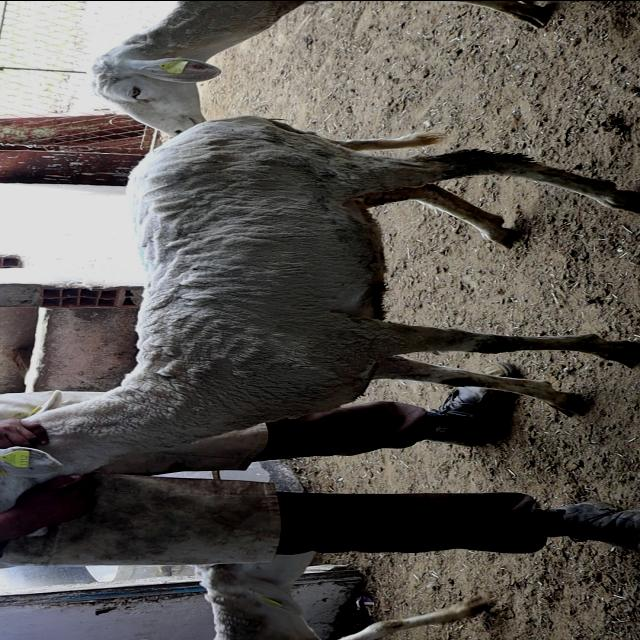Score_5: (0, 115, 639, 512)
